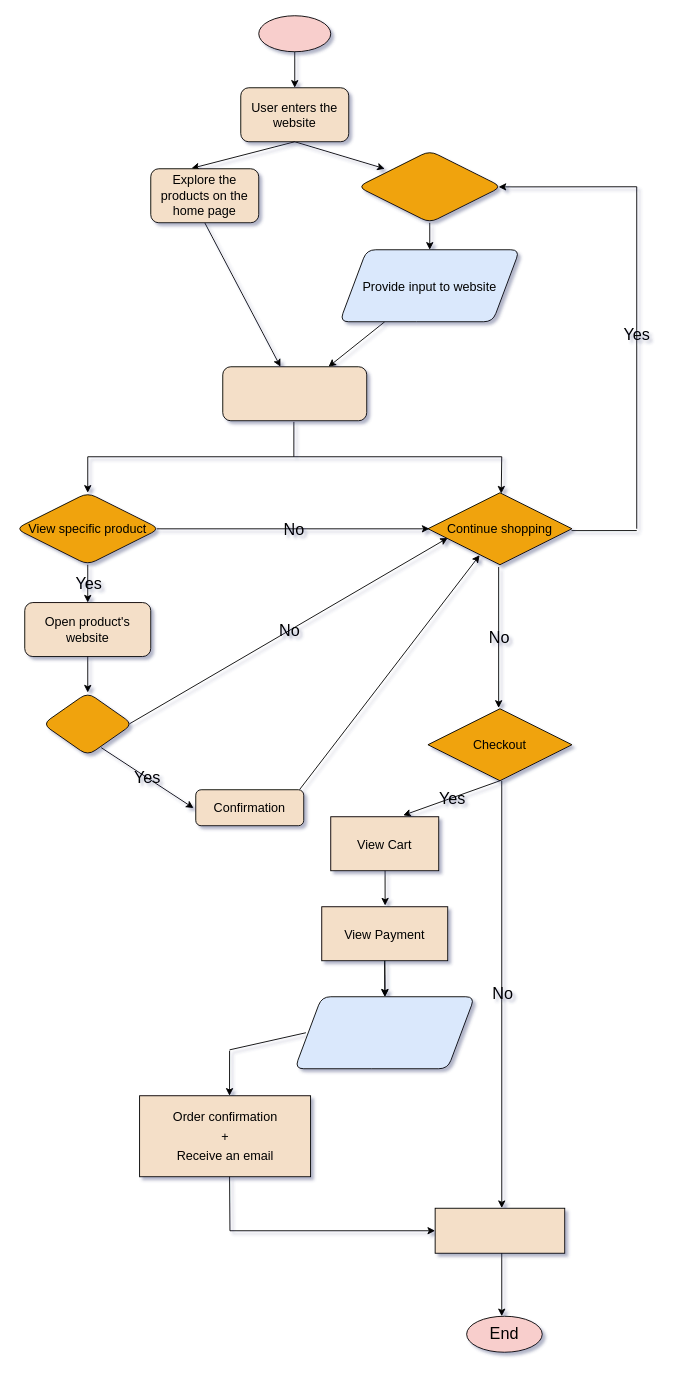
The diagram is 680 pixels wide and 1373 high, and some of its shapes have lost their labels. The shapes that lost their labels are listed below. From the top down, each one's box as (x1, y1, x2, y2) in pixels, then its label:
(258, 15, 331, 52): Start
(357, 150, 502, 223): Search for a product
(222, 366, 367, 421): Look over the product
(42, 692, 133, 756): Add to cart
(294, 996, 475, 1069): Input payment information
(434, 1207, 565, 1253): Leave the website
